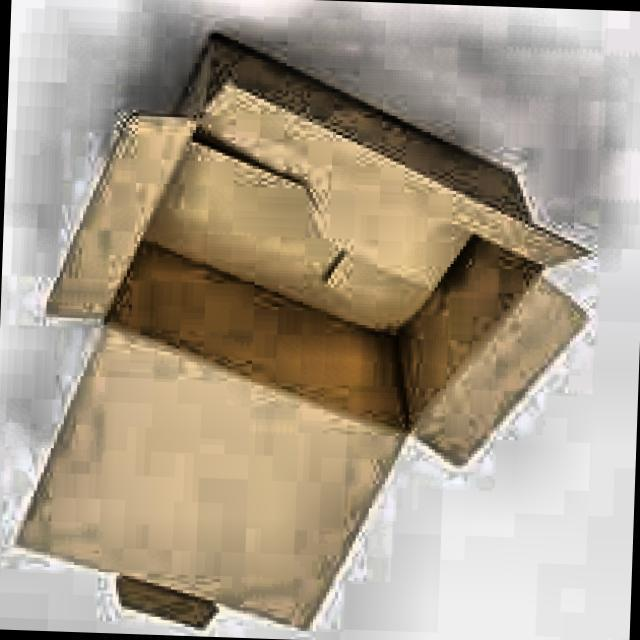cardboard: (10, 29, 601, 640)
